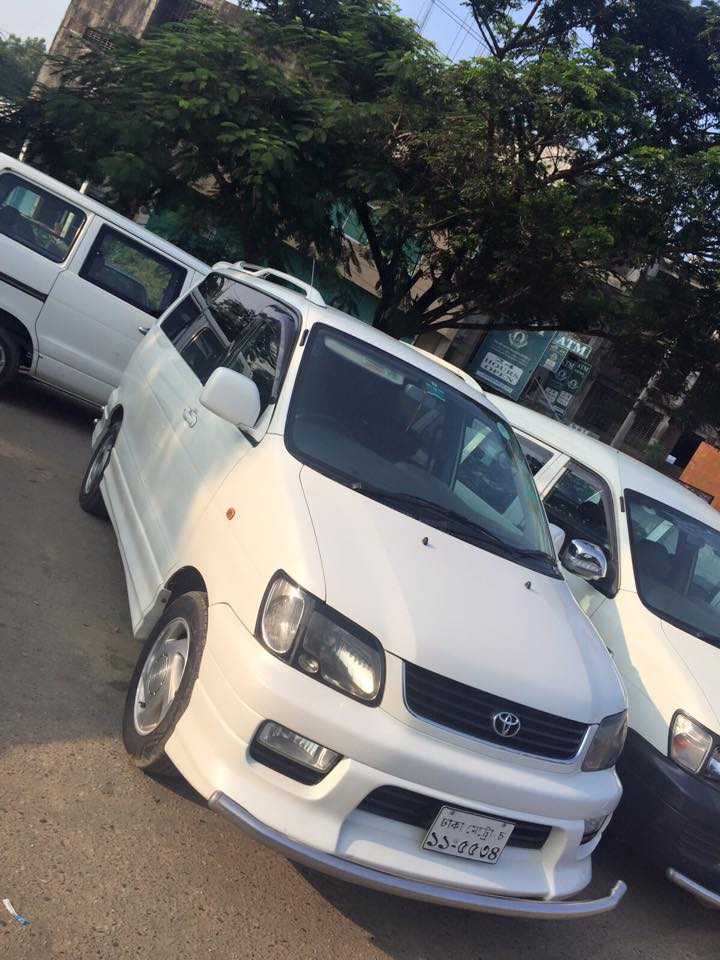registration_plate: (421, 805, 519, 869)
